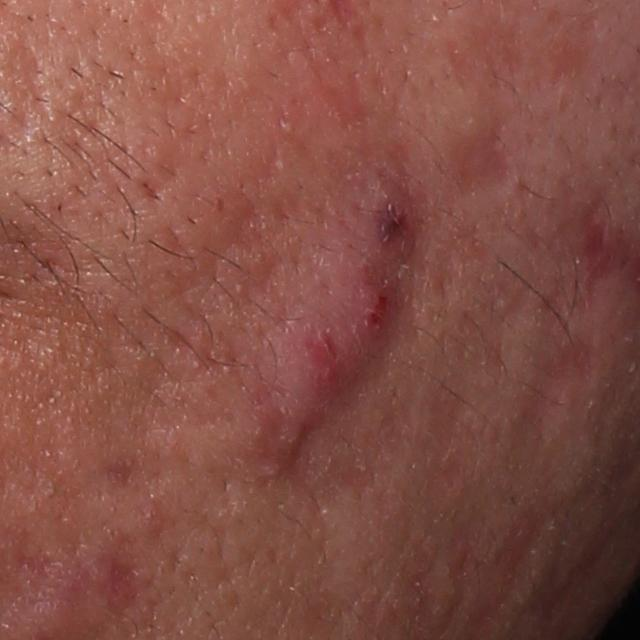atrophic_scar: (526, 317, 599, 440), (446, 114, 528, 207)
nodule: (261, 160, 414, 477)
